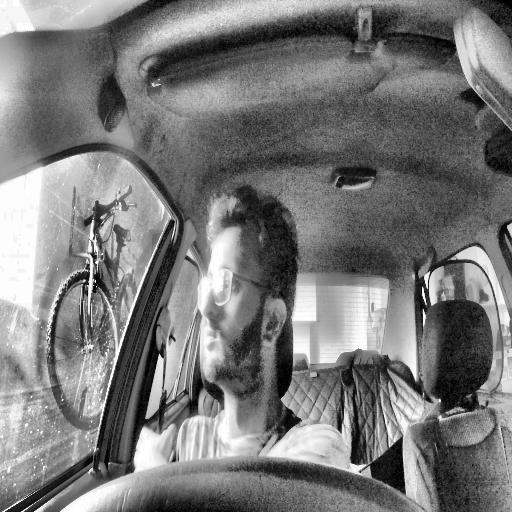awake: (195, 185, 299, 394)
